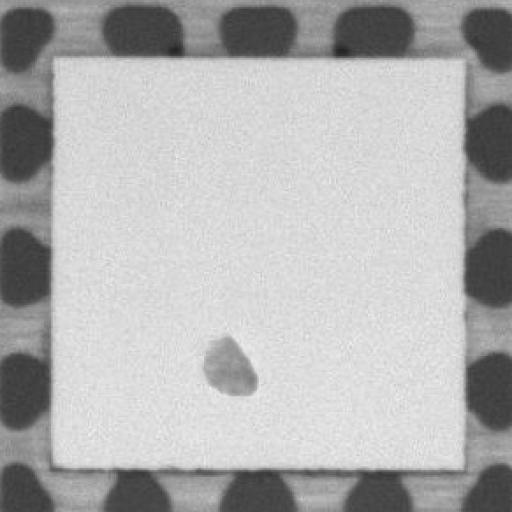DIE_INK: (191, 325, 261, 403)
